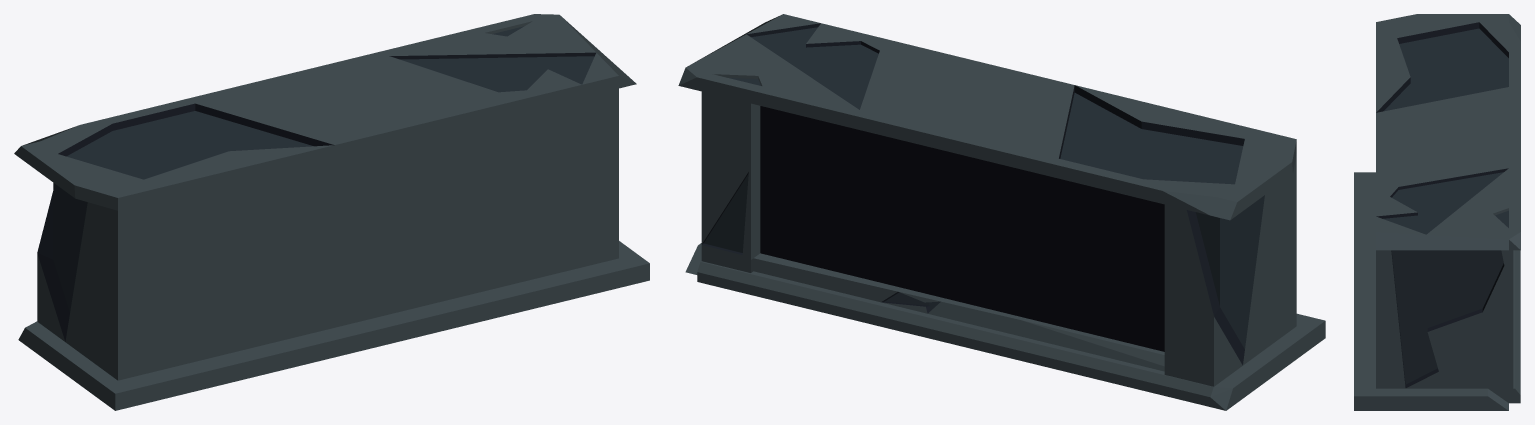
File: Meja DJ 1.fbx
3 renders of one model, left to right at view 1: azimuth 30°, elevation 25°; view 2: azimuth 150°, elevation 25°; view 3: azimuth 270°, elevation 25°, orthographic. The views are drawn at different scales.
Parts seen in each view (by area): view 1: Cube; view 2: Cube; view 3: Cube.
Boxes of the visible parts, x1,y1,x2,y2 form: Cube: [14, 14, 649, 410]; Cube: [678, 14, 1325, 410]; Cube: [1354, 14, 1520, 410].
Bounding box in the file's own units: 8.03 × 2.84 × 2.51.
